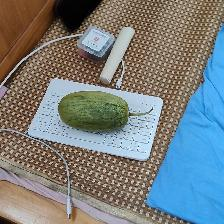gua: (51, 91, 133, 129)
